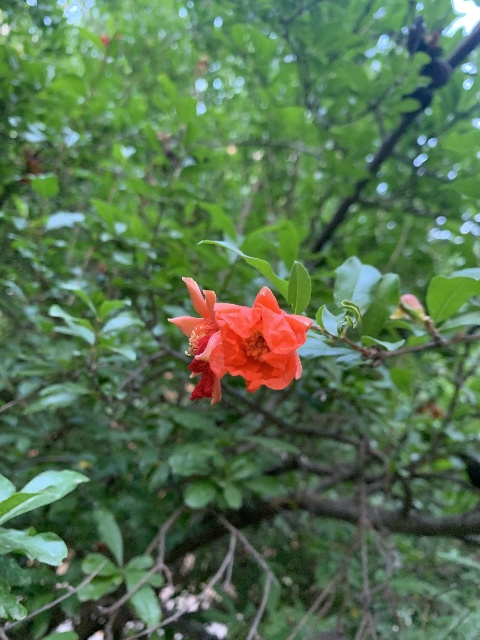flower: (209, 285, 312, 393), (166, 276, 244, 403)
